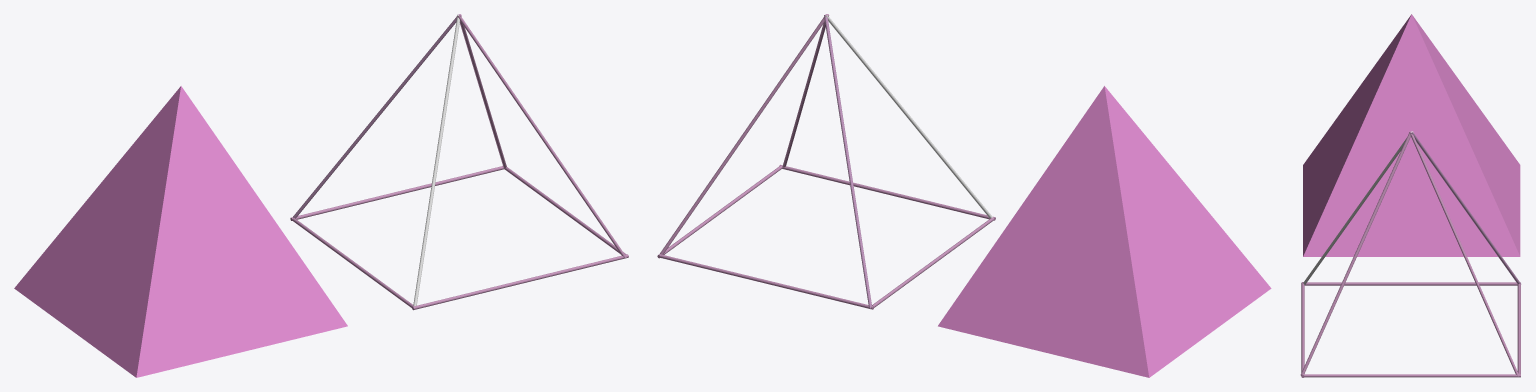
Rendered from Limas Siap.fbx.
3 views of the same model, side by side, from view 1: azimuth 30°, elevation 25°; view 2: azimuth 150°, elevation 25°; view 3: azimuth 270°, elevation 25° (orthographic). The views are drawn at different scales.
Parts seen in each view (by area): view 1: Cube.005, Cube.004, Cylinder.008, Cylinder.010, Cylinder.004, Cylinder.003, Cylinder.005, Cylinder.011, Cylinder.006, Cylinder.001; view 2: Cube.003, Cube.004, Cylinder.004, Cylinder.011, Cylinder.008, Cylinder.005, Cylinder.003, Cylinder.006, Cylinder.001, Cylinder.010; view 3: Cube.002, Cube.003, Cube.005, Cylinder.010, Cylinder.011, Cylinder.001, Cylinder.006, Cylinder.004, Cylinder.008, Cylinder.003, Cylinder.005.
Boxes of the visible parts, <box> form: Cube.005: <box>136,86,347,377</box>; Cube.004: <box>14,86,180,377</box>; Cylinder.008: <box>413,14,459,306</box>; Cylinder.010: <box>457,15,626,257</box>; Cylinder.004: <box>293,14,461,218</box>; Cylinder.003: <box>412,254,628,310</box>; Cylinder.005: <box>290,166,503,220</box>; Cylinder.011: <box>459,14,506,168</box>; Cylinder.006: <box>292,218,413,307</box>; Cylinder.001: <box>504,167,626,254</box>; Cube.003: <box>938,86,1149,377</box>; Cube.004: <box>1104,86,1271,377</box>; Cylinder.004: <box>824,15,871,308</box>; Cylinder.011: <box>660,14,827,254</box>; Cylinder.008: <box>825,15,992,218</box>; Cylinder.005: <box>660,254,874,309</box>; Cylinder.003: <box>779,164,995,220</box>; Cylinder.006: <box>872,217,993,307</box>; Cylinder.001: <box>657,165,782,258</box>; Cylinder.010: <box>782,14,829,167</box>; Cube.002: <box>1303,14,1520,256</box>; Cube.003: <box>1412,15,1520,255</box>; Cube.005: <box>1303,14,1411,256</box>; Cylinder.010: <box>1300,131,1410,375</box>; Cylinder.011: <box>1409,132,1518,376</box>; Cylinder.001: <box>1303,374,1520,377</box>; Cylinder.006: <box>1305,282,1517,285</box>; Cylinder.004: <box>1411,132,1521,284</box>; Cylinder.008: <box>1303,131,1413,284</box>; Cylinder.003: <box>1301,282,1304,377</box>; Cylinder.005: <box>1517,282,1520,374</box>.
Size of the model in its own units: 464 by 203 by 203.
